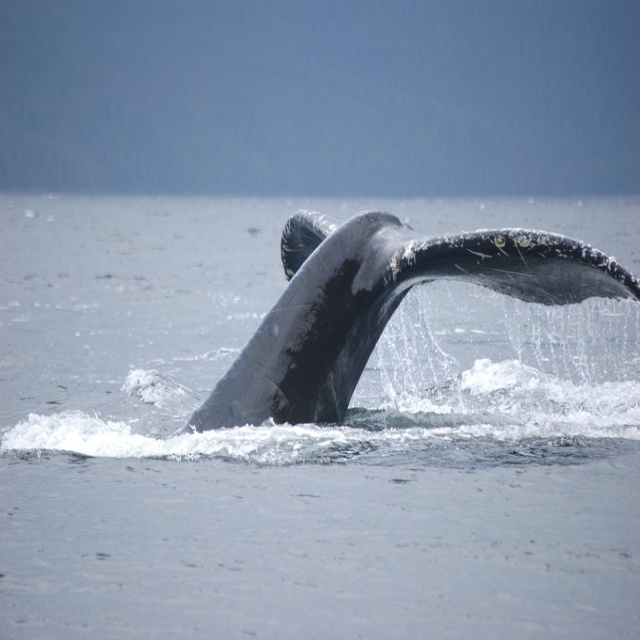Whale: (177, 209, 640, 436)
